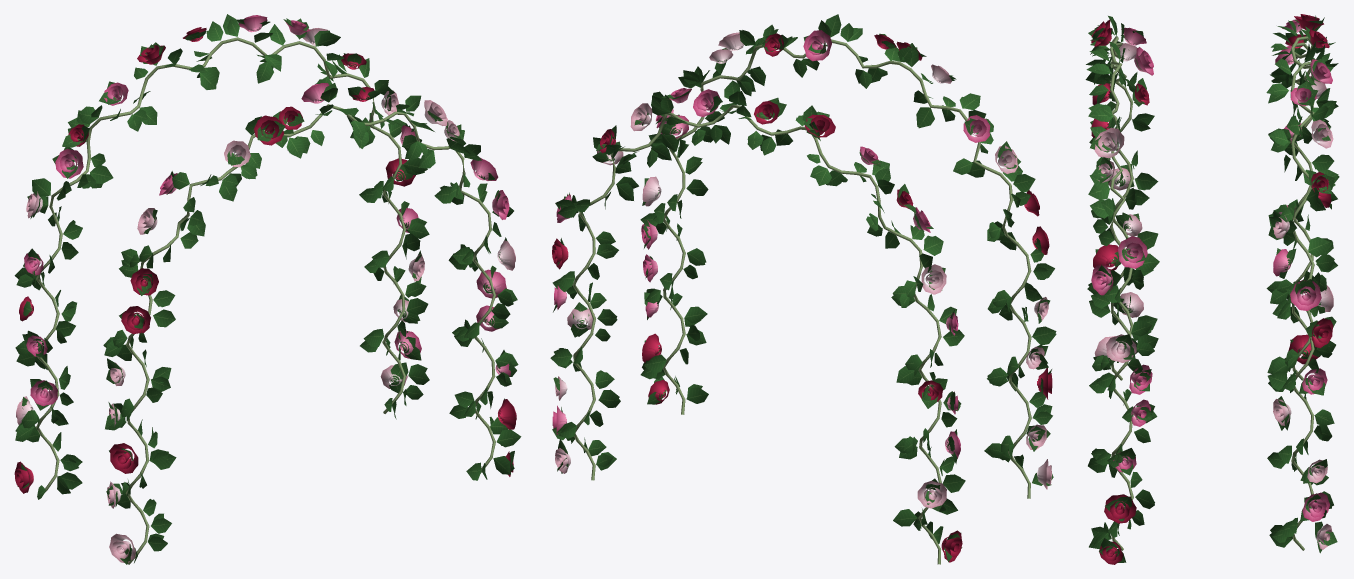
The model's file is citadel_rose_arch.glb.
The picture shows the model from 3 angles, left to right: view 1: azimuth 30°, elevation 25°; view 2: azimuth 150°, elevation 25°; view 3: azimuth 270°, elevation 25°; orthographic projection.
Visible parts, largest first — view 1: leaves, petals, vine; view 2: leaves, petals, vine; view 3: leaves, petals, vine.
Boxes of the visible parts, box(x1,y1,x2,y2) form: leaves: box(14, 14, 521, 564); petals: box(14, 15, 516, 562); vine: box(35, 37, 495, 564); leaves: box(550, 14, 1056, 562); petals: box(552, 30, 1052, 562); vine: box(572, 39, 1031, 564); leaves: box(1085, 15, 1339, 562); petals: box(1091, 14, 1333, 564); vine: box(1109, 36, 1314, 550).
Bounding box in the file's own units: 3.15 × 3.19 × 1.69.
Materials: 3 (2 with a texture image).
